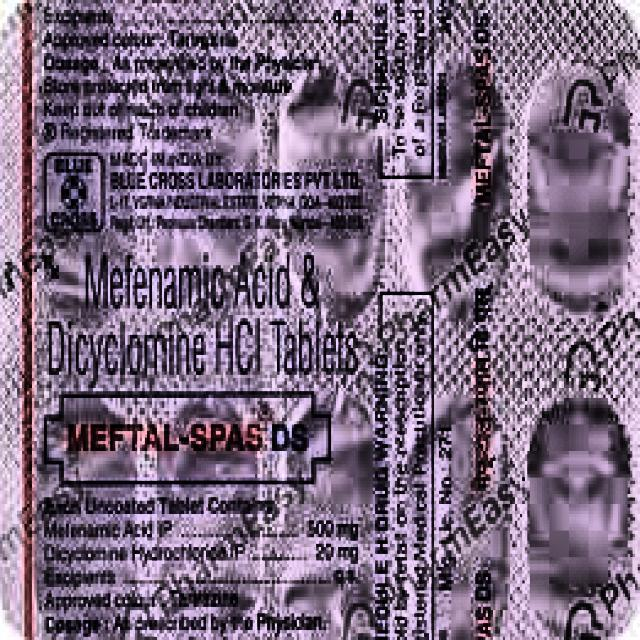Meftal: (31, 352, 348, 507)
